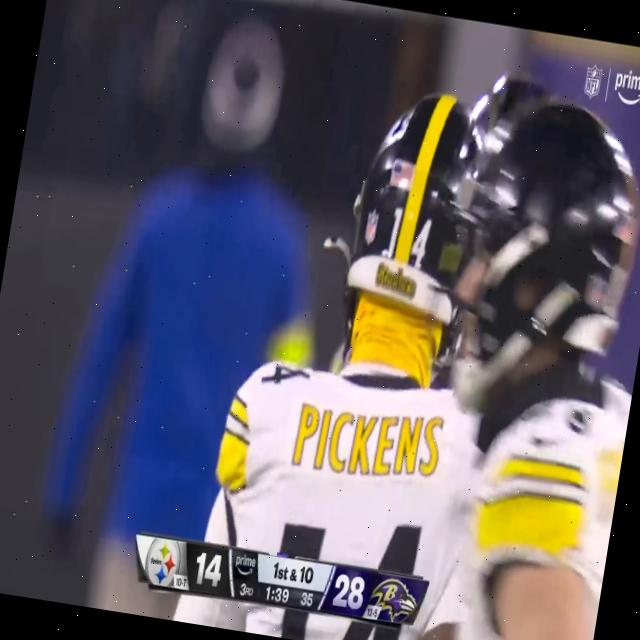Player: (202, 70, 508, 579), (406, 86, 640, 640)
